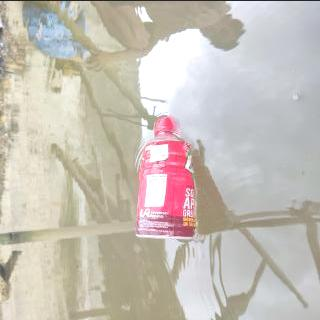bottle: (130, 114, 201, 239)
